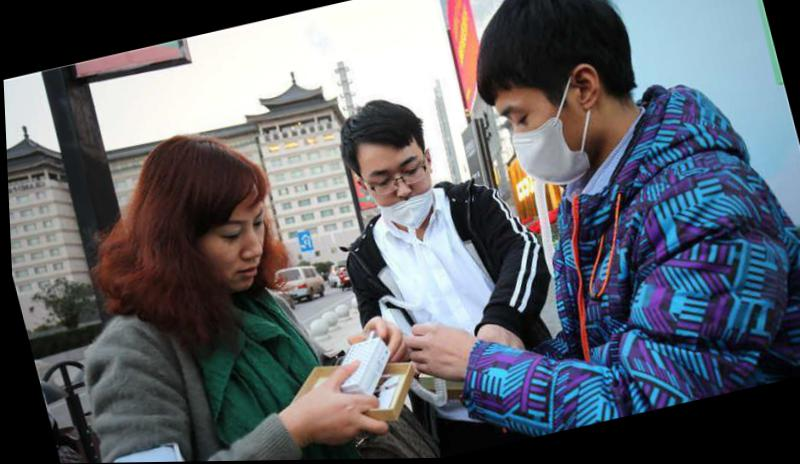NONE: (195, 202, 283, 300)
OK: (494, 79, 597, 196)
WRONG: (362, 147, 442, 235)
